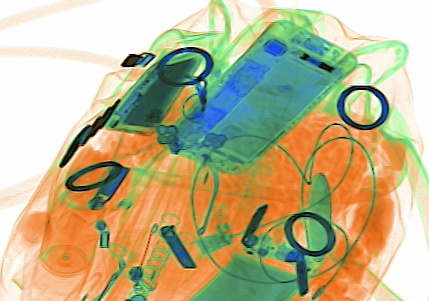pressure: (34, 138, 122, 298)
